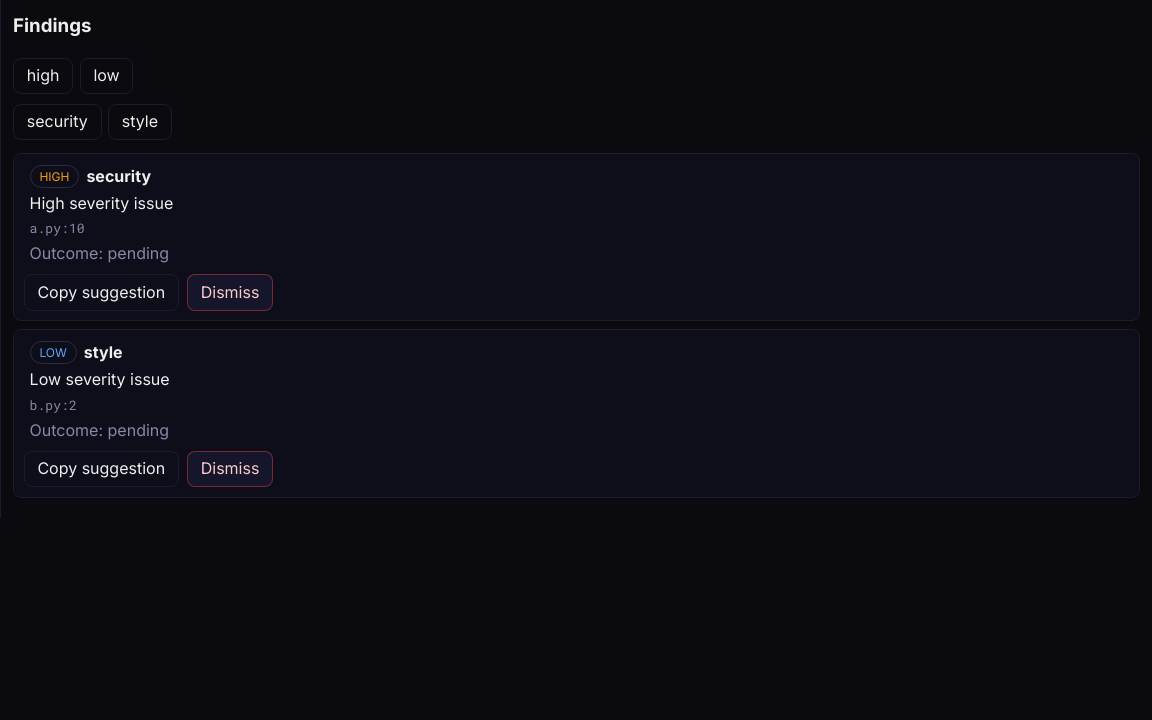
Test case: FindingsPanel › filters by selected severity pill
Check: the text "High severity issue" is shown, box [30, 193, 173, 213]
Check: the text "Low severity issue" is shown, box [30, 369, 170, 389]
Click the button "high": click(43, 76) [13, 58, 73, 94]
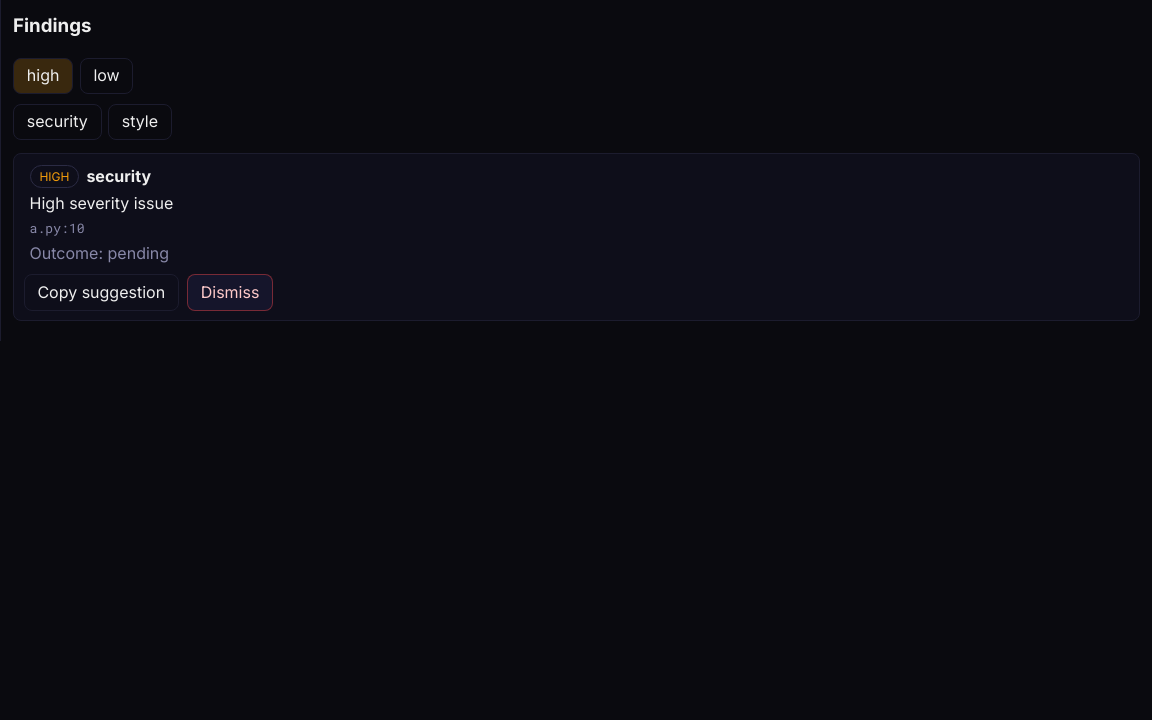
Check: the text "High severity issue" is shown, box [30, 193, 173, 213]
Check: the button "Low severity issue" is gone
